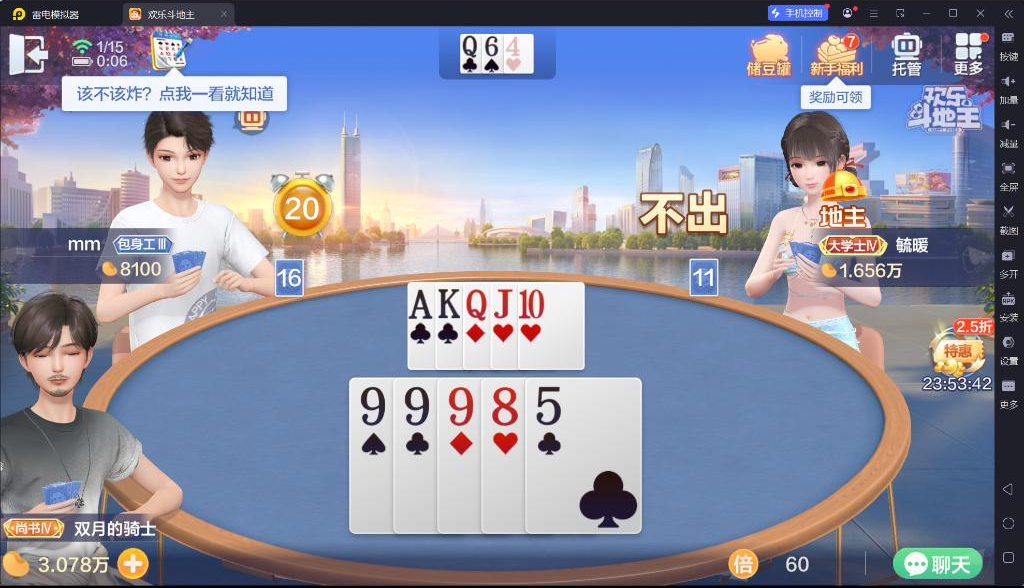A: (409, 286, 435, 323)
J: (493, 287, 516, 319)
K: (437, 284, 461, 321)
Q: (464, 286, 489, 323), (461, 35, 479, 58)
eight: (488, 383, 522, 429)
five: (532, 382, 566, 428)
four: (505, 35, 522, 57)
nine: (357, 383, 389, 428), (443, 383, 475, 428), (401, 383, 431, 429)
six: (483, 35, 501, 57)
ten: (518, 286, 545, 323)
